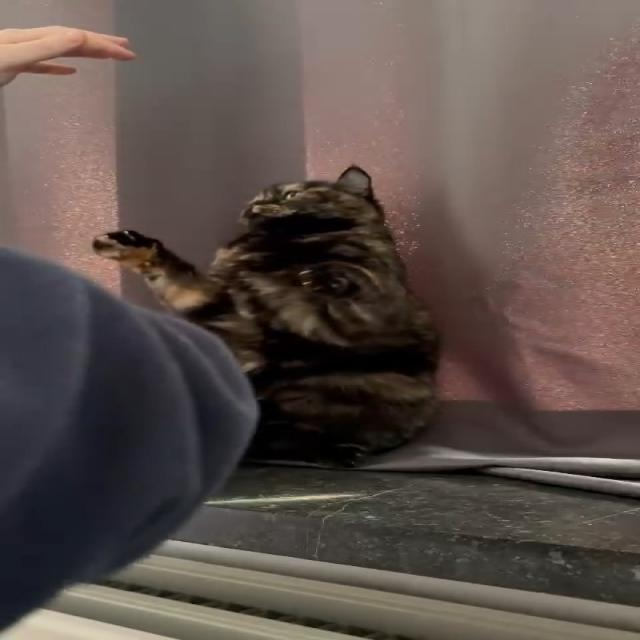authorized: (90, 163, 442, 469)
